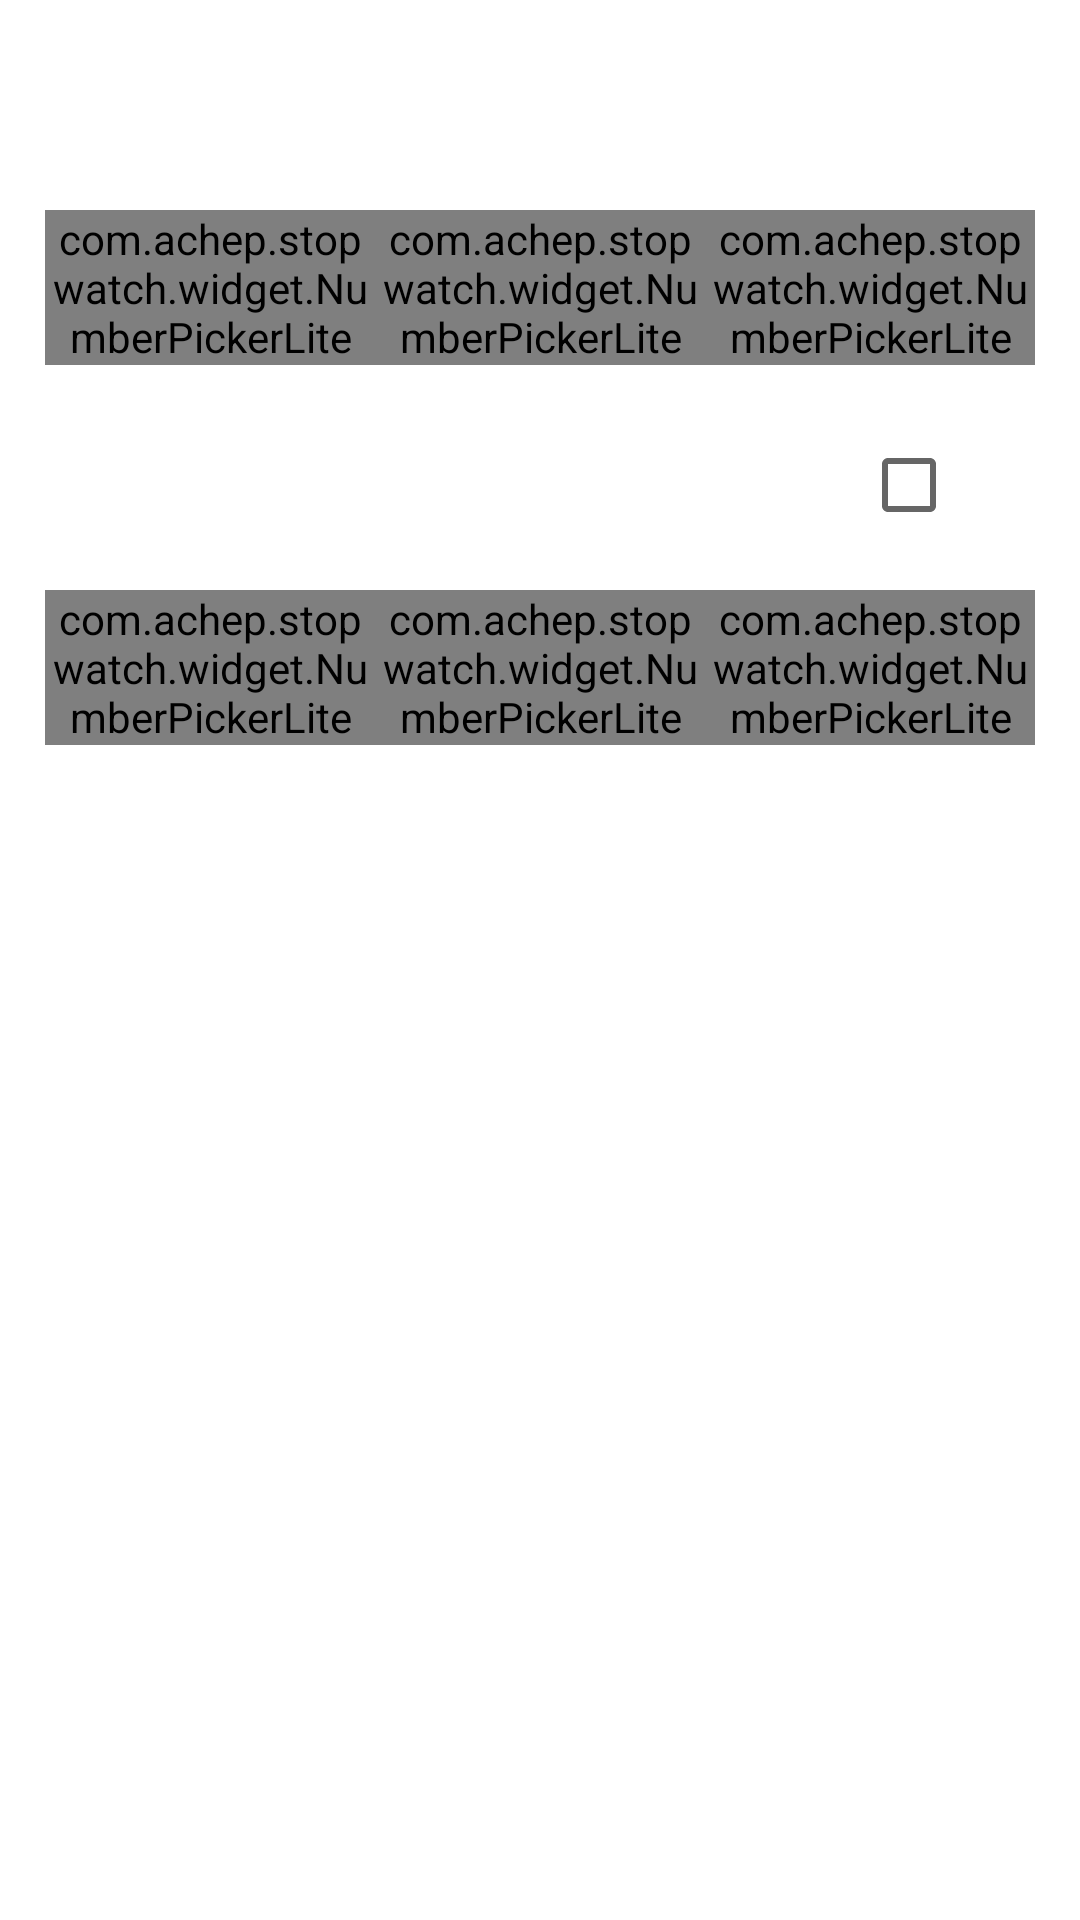

Named icons in this screenshot (1080w x 1920h) and their centers, point (x, y):
check: point (909, 485)
